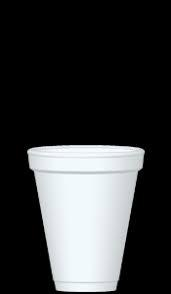Plastic cup: (20, 132, 151, 294)
